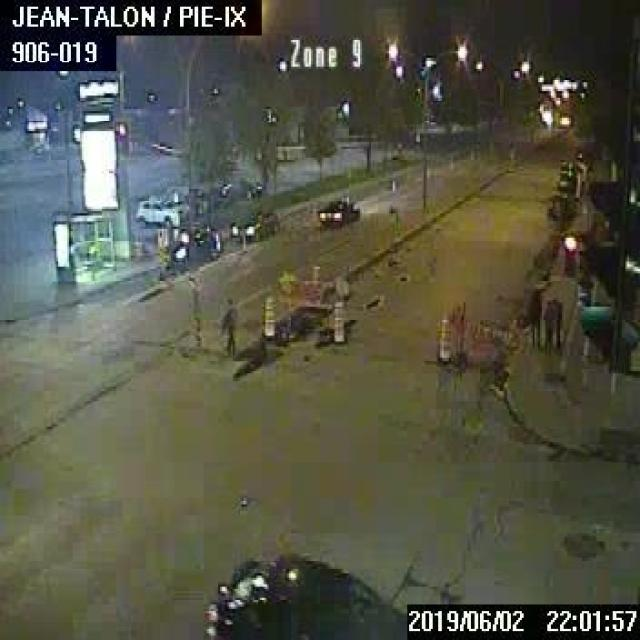construction: (272, 268, 348, 348), (448, 299, 520, 373), (436, 312, 452, 364), (261, 289, 275, 340), (332, 298, 346, 344)
pedestrian: (218, 296, 238, 351), (526, 282, 541, 349), (551, 293, 565, 352), (543, 296, 554, 354)
vehicle: (200, 546, 405, 638), (160, 224, 220, 266), (134, 193, 191, 227), (229, 209, 280, 240), (316, 194, 358, 226), (180, 185, 216, 213), (218, 176, 261, 198)
